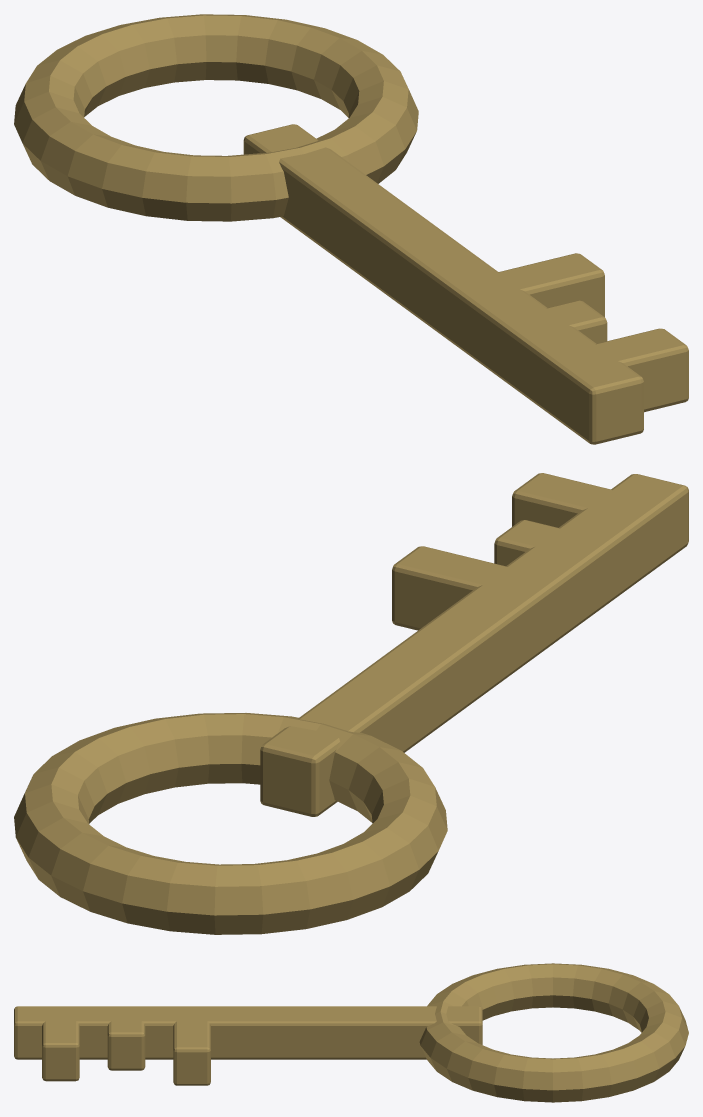
File: MainKey.fbx
The picture shows the model from 3 angles, top to bottom: view 1: azimuth 30°, elevation 25°; view 2: azimuth 150°, elevation 25°; view 3: azimuth 270°, elevation 25°; orthographic projection. The views are drawn at different scales.
Visible parts, largest first — view 1: Key bow.001, Key shaft.001, Key tooth.003, Key tooth.005, Key tooth.004; view 2: Key bow.001, Key shaft.001, Key tooth.005, Key tooth.003, Key tooth.004; view 3: Key bow.001, Key shaft.001, Key tooth.005, Key tooth.003, Key tooth.004.
Part boxes in pixels (<box>): Key bow.001: <box>14,14,418,221</box>; Key shaft.001: <box>243,124,643,444</box>; Key tooth.003: <box>595,328,688,412</box>; Key tooth.005: <box>497,253,604,316</box>; Key tooth.004: <box>546,300,607,343</box>; Key bow.001: <box>14,713,447,934</box>; Key shaft.001: <box>260,474,688,816</box>; Key tooth.005: <box>392,546,506,630</box>; Key tooth.003: <box>512,473,612,527</box>; Key tooth.004: <box>494,520,559,566</box>; Key bow.001: <box>419,963,688,1102</box>; Key shaft.001: <box>14,1006,482,1059</box>; Key tooth.005: <box>173,1021,210,1085</box>; Key tooth.003: <box>42,1021,79,1081</box>; Key tooth.004: <box>107,1021,145,1070</box>.
Bounding box in the file's own units: 7.54 × 1.3 × 18.72.
